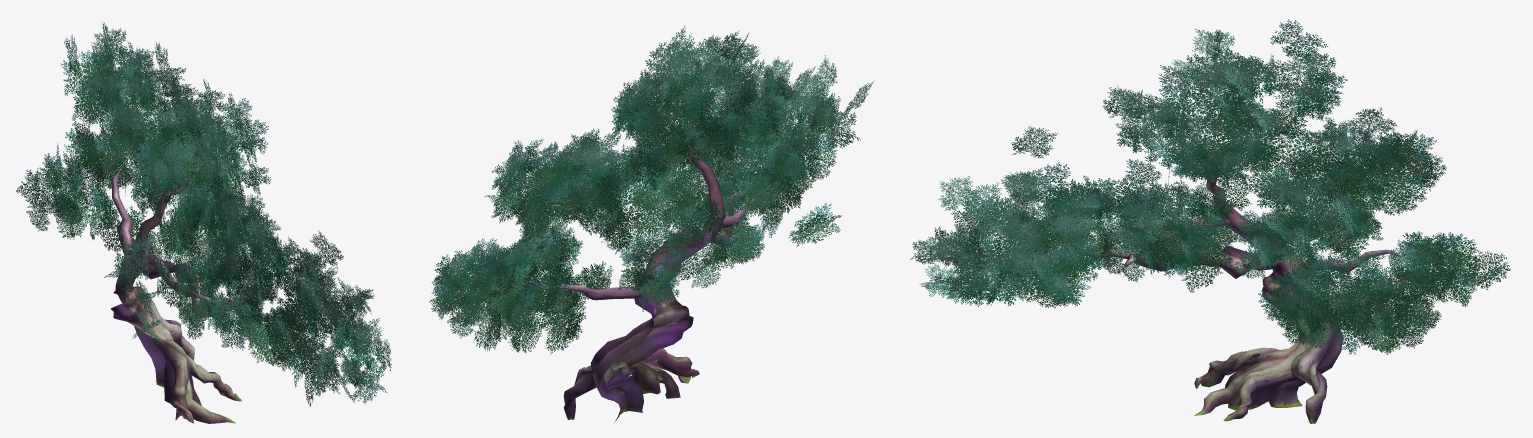
The model's file is map_xuanren_shu_2.fbx.
The picture shows the model from 3 angles, left to right: view 1: azimuth 30°, elevation 25°; view 2: azimuth 150°, elevation 25°; view 3: azimuth 270°, elevation 25°; orthographic projection. The views are drawn at different scales.
Visible parts, largest first — view 1: wulin_xsfb_Tree03; view 2: wulin_xsfb_Tree03; view 3: wulin_xsfb_Tree03.
Boxes of the visible parts, left/top/right/bottom form: wulin_xsfb_Tree03: left=16, top=22, right=391, bottom=423; wulin_xsfb_Tree03: left=429, top=26, right=874, bottom=422; wulin_xsfb_Tree03: left=910, top=19, right=1510, bottom=423.
Bounding box in the file's own units: 2.47 × 3.51 × 5.42.
